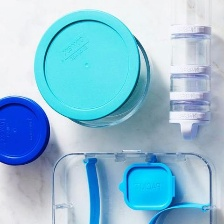plastic_box: (28, 4, 159, 134), (0, 89, 56, 169)
